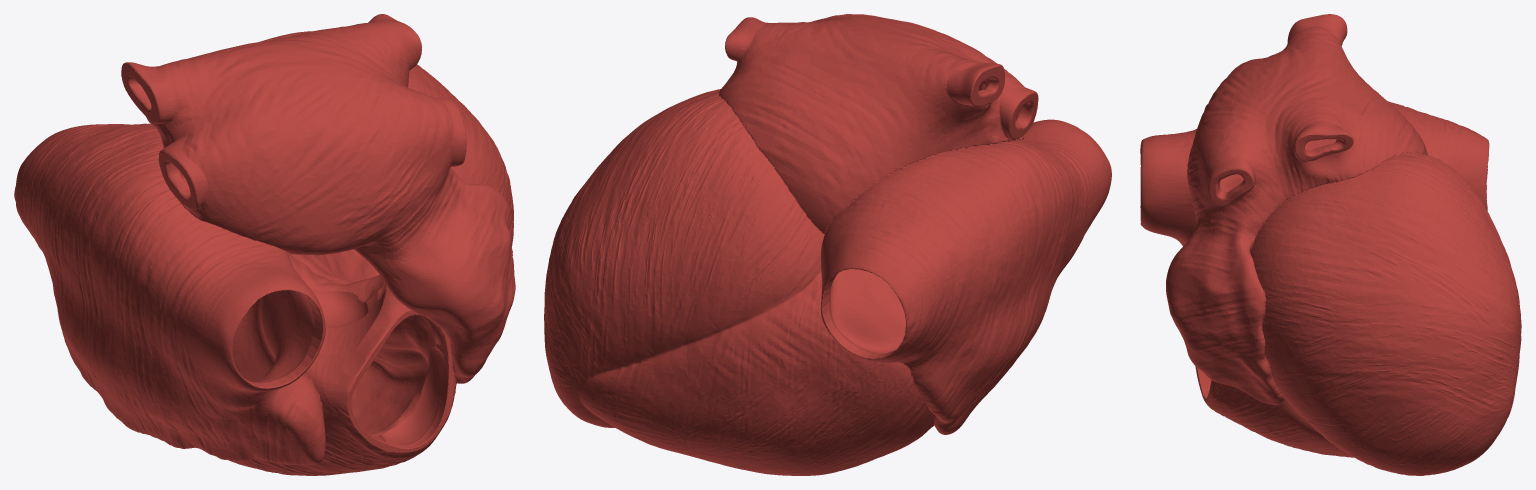
File: heart.glb
The picture shows the model from 3 angles, left to right: view 1: azimuth 30°, elevation 25°; view 2: azimuth 150°, elevation 25°; view 3: azimuth 270°, elevation 25°; orthographic projection. The views are drawn at different scales.
Size of the model in its own units: 116 by 110 by 105.
